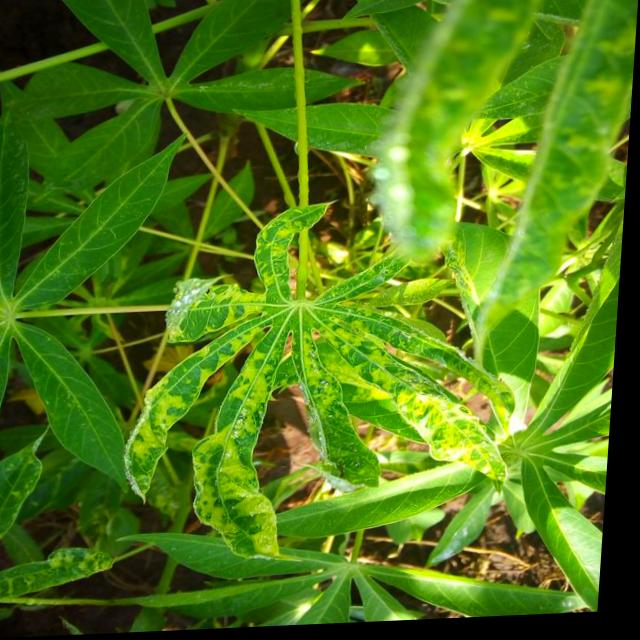Mosaico: (153, 238, 495, 502)
